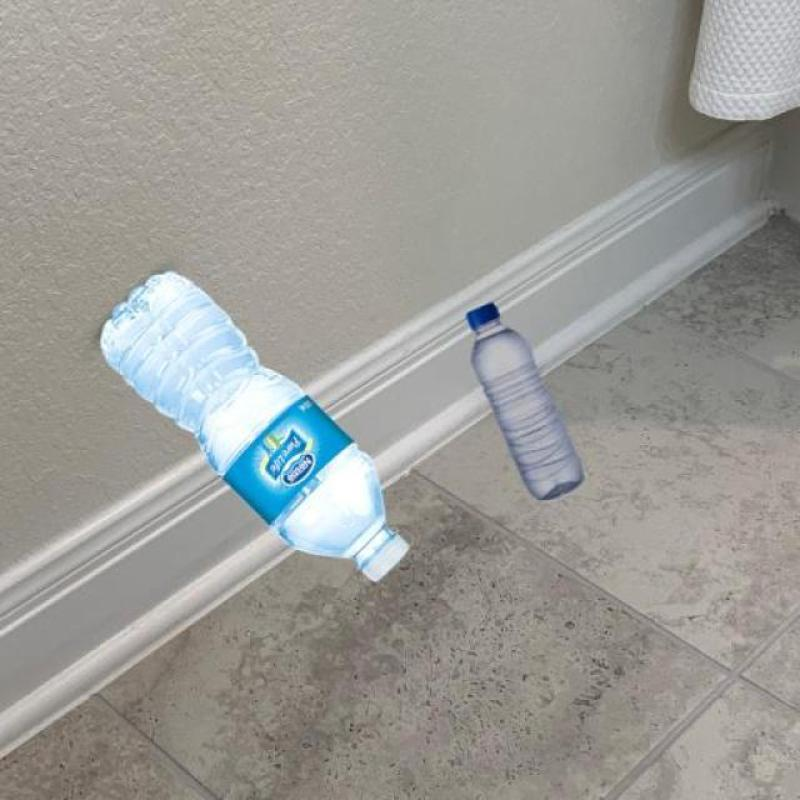botella: (93, 267, 409, 583), (462, 300, 586, 501)
